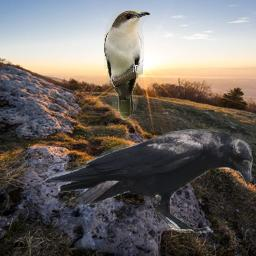Crow: (42, 129, 253, 233)
Cuckoo: (104, 10, 151, 120)
